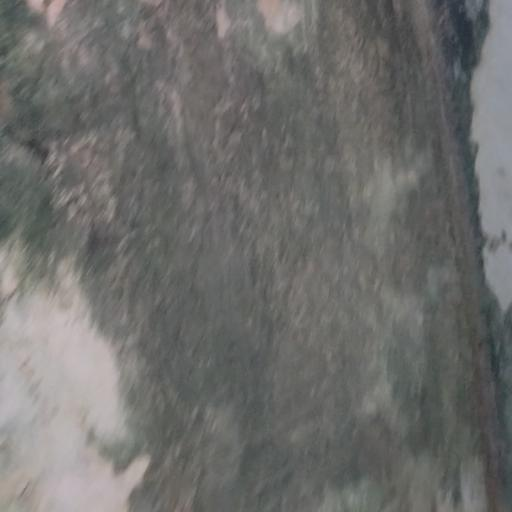algae: (0, 3, 195, 436)
